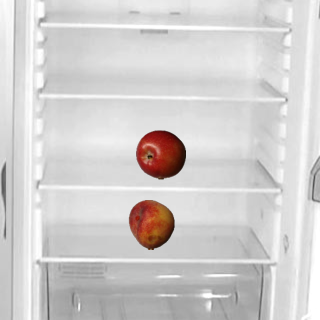Apple Braeburn: (135, 129, 185, 179)
Peach: (126, 199, 176, 249)
